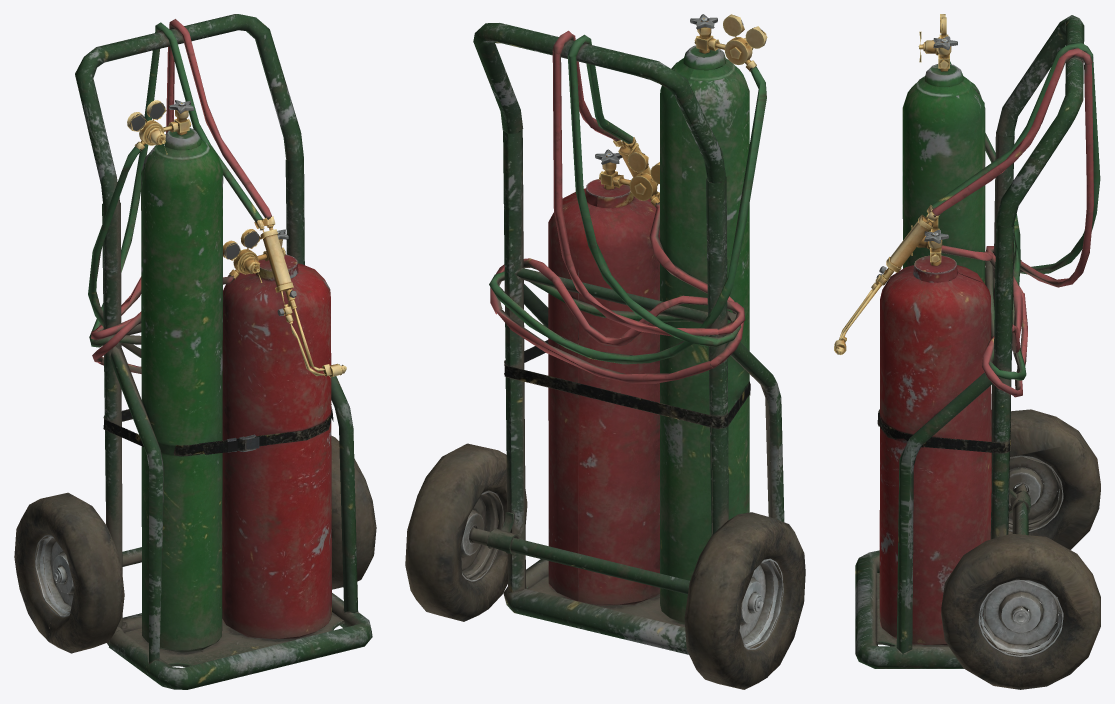
File: welding_cart.glb
3 views of the same model, side by side, from view 1: azimuth 30°, elevation 25°; view 2: azimuth 150°, elevation 25°; view 3: azimuth 270°, elevation 25° (orthographic). The views are drawn at different scales.
Parts seen in each view (by area): view 1: welding_cart; view 2: welding_cart; view 3: welding_cart.
Part boxes in pixels (left/top/right/bottom): welding_cart: left=14, top=14, right=376, bottom=689; welding_cart: left=405, top=14, right=805, bottom=689; welding_cart: left=834, top=14, right=1100, bottom=689.
Bounding box in the file's own units: 0.8382 × 1.56 × 0.6541.
Materials: 2 (2 with a texture image).
